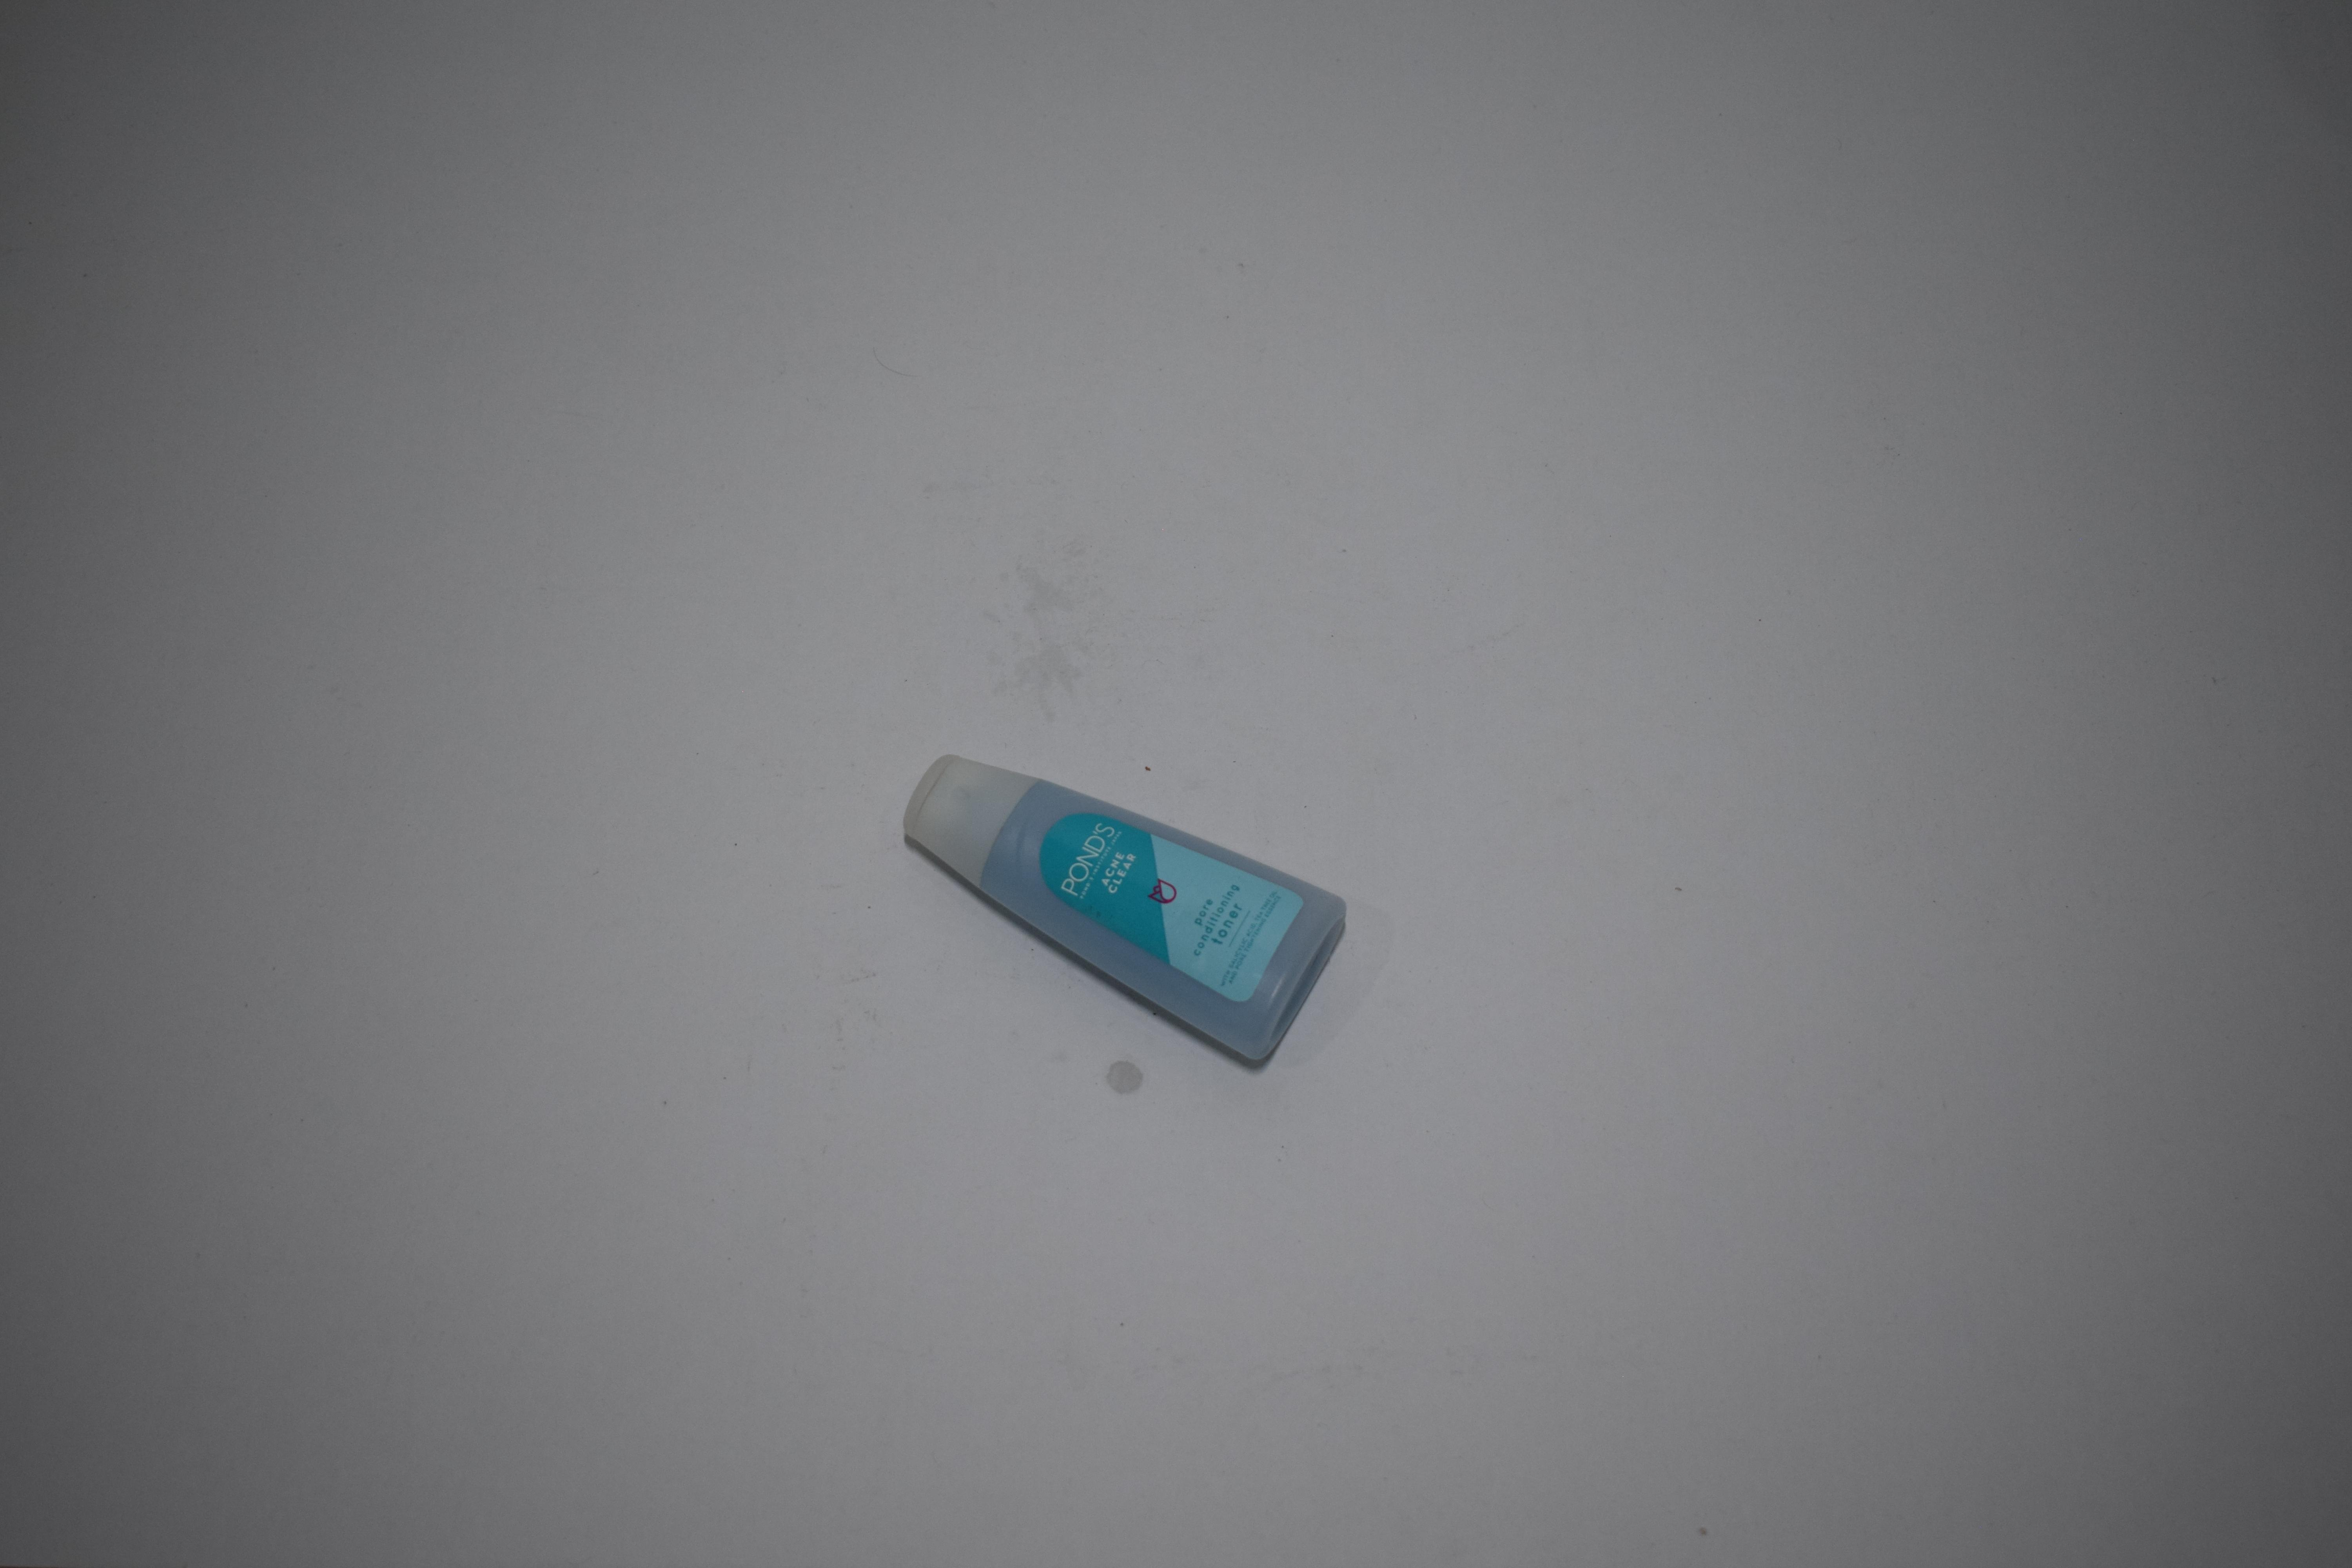bottle: (894, 0, 1356, 297)
